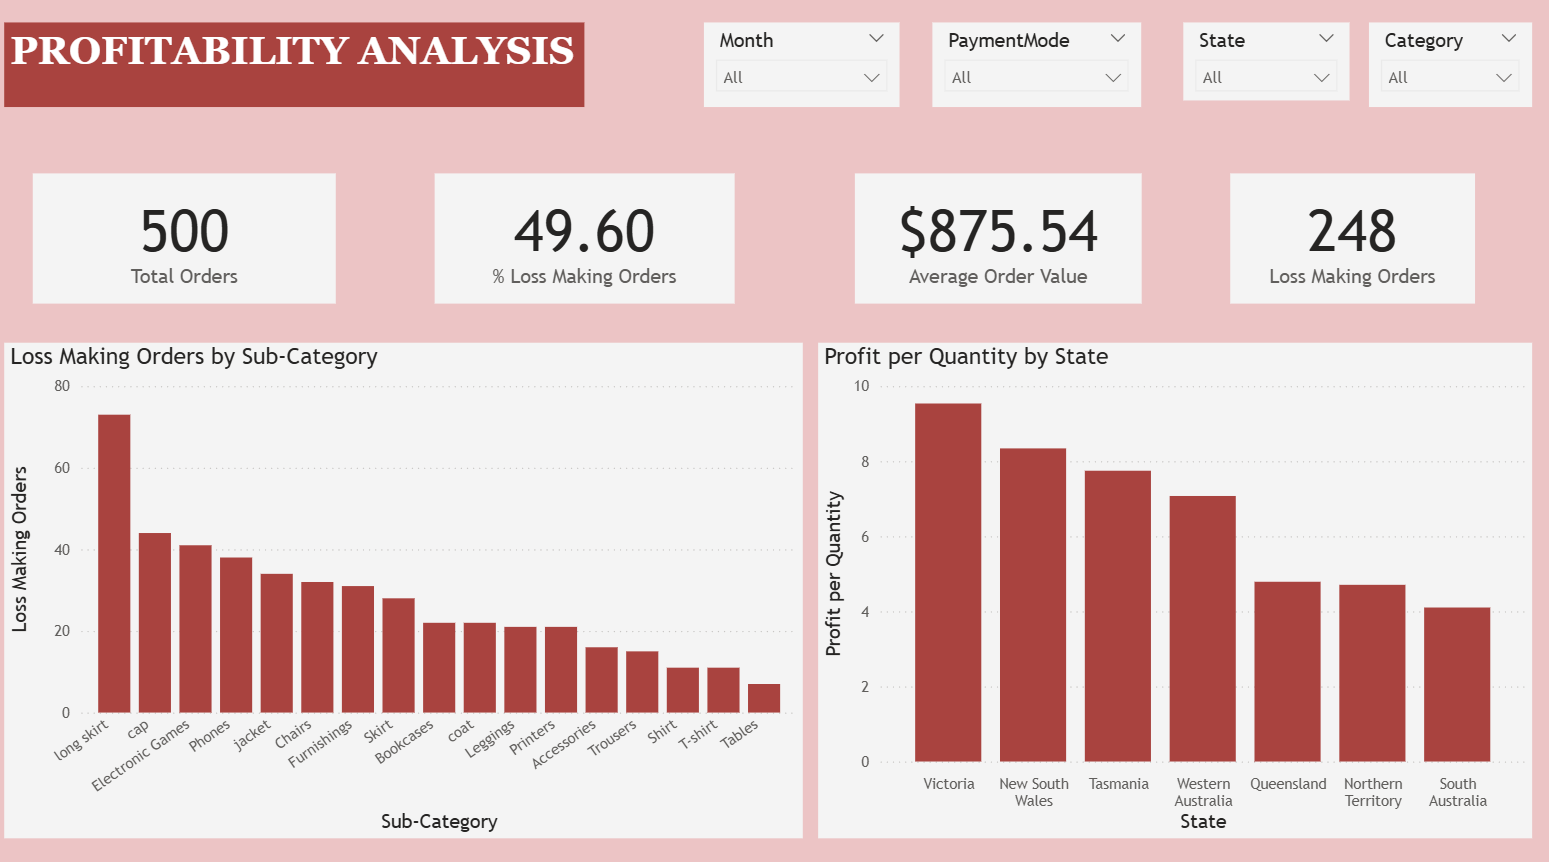

The page's visual inventory and layout, read from the dashboard file:
{"tool":"powerbi","page":{"name":"Profitability Analysis","canvas":[1280,720],"ordinal":1},"visuals":[{"type":"card","fields":{"Values":["Orders_Australia.#Total Orders"]},"box":[32,141.2,247.7,106.5],"z":0},{"type":"card","fields":{"Values":["Orders_Australia.#Average Order Value"]},"box":[703.2,141.2,234.4,106.5],"z":1},{"type":"card","fields":{"Values":["Orders_Australia.#Loss Making Orders"]},"box":[1009.5,141.2,199.8,106.5],"z":2},{"type":"card","fields":{"Values":["Orders_Australia.#% Loss Making Orders"]},"box":[359.6,141.2,245.1,106.5],"z":3},{"type":"clusteredColumnChart","fields":{"Y":["Orders_Australia.#Loss Making Orders"],"Category":["Details.Sub-Category"]},"box":[8,279.7,652.6,404.9],"z":4},{"type":"clusteredColumnChart","fields":{"Y":["Orders_Australia.#Profit per Quantity"],"Category":["Orders_Australia.State"]},"box":[673.9,279.7,583.4,404.9],"z":5},{"type":"slicer","fields":{"Values":["Details.Category"]},"box":[1124.1,18.6,133.2,69.3],"z":6},{"type":"slicer","fields":{"Values":["Orders_Australia.State"]},"box":[972.3,18.6,135.8,63.9],"z":7},{"type":"slicer","fields":{"Values":["Details.PaymentMode"]},"box":[767.2,18.6,170.5,69.3],"z":8},{"type":"slicer","fields":{"Values":["Orders_Australia.Order Date.Variation.Date Hierarchy.Month"]},"box":[580.7,18.6,159.8,69.3],"z":9},{"type":"textbox","box":[8,18.6,474.1,69.3],"z":10}]}

Visuals, with their boxes in screenshot pixels (x1, y1, x2, y2), scaled from the page's 1280x720 canvas onto the 1549x862 screenshot:
card - Orders_Australia.#Total Orders: 39:169:338:297
card - Orders_Australia.#Average Order Value: 851:169:1135:297
card - Orders_Australia.#Loss Making Orders: 1222:169:1463:297
card - Orders_Australia.#% Loss Making Orders: 435:169:732:297
clusteredColumnChart - Orders_Australia.#Loss Making Orders x Details.Sub-Category: 10:335:799:820
clusteredColumnChart - Orders_Australia.#Profit per Quantity x Orders_Australia.State: 816:335:1522:820
slicer - Details.Category: 1360:22:1522:105
slicer - Orders_Australia.State: 1177:22:1341:99
slicer - Details.PaymentMode: 928:22:1135:105
slicer - Orders_Australia.Order Date.Variation.Date Hierarchy.Month: 703:22:896:105
textbox: 10:22:583:105
